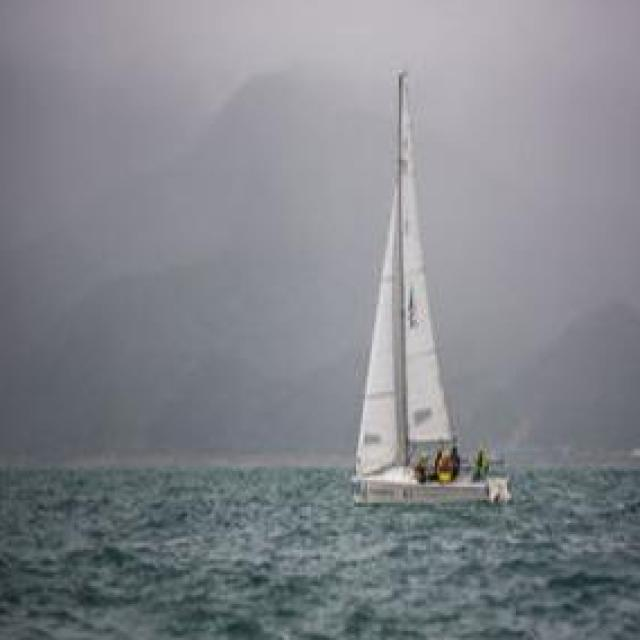sailboat: (354, 53, 503, 521)
